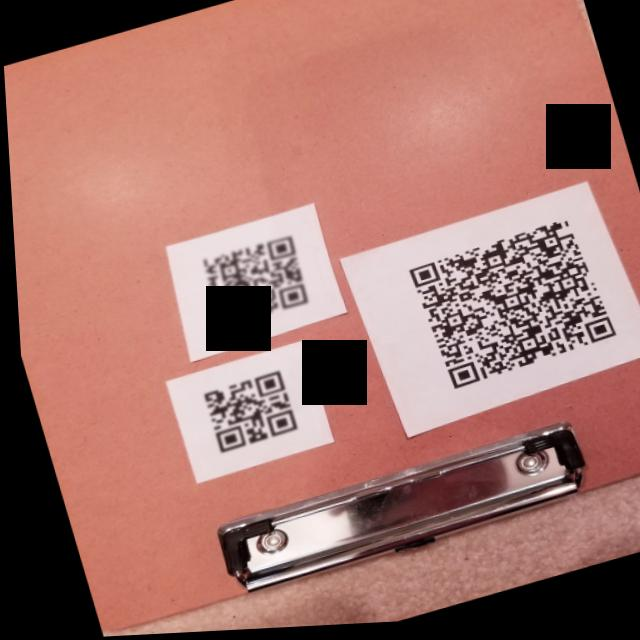QR_CODE: (382, 200, 630, 411), (170, 215, 327, 349), (175, 350, 314, 470)
